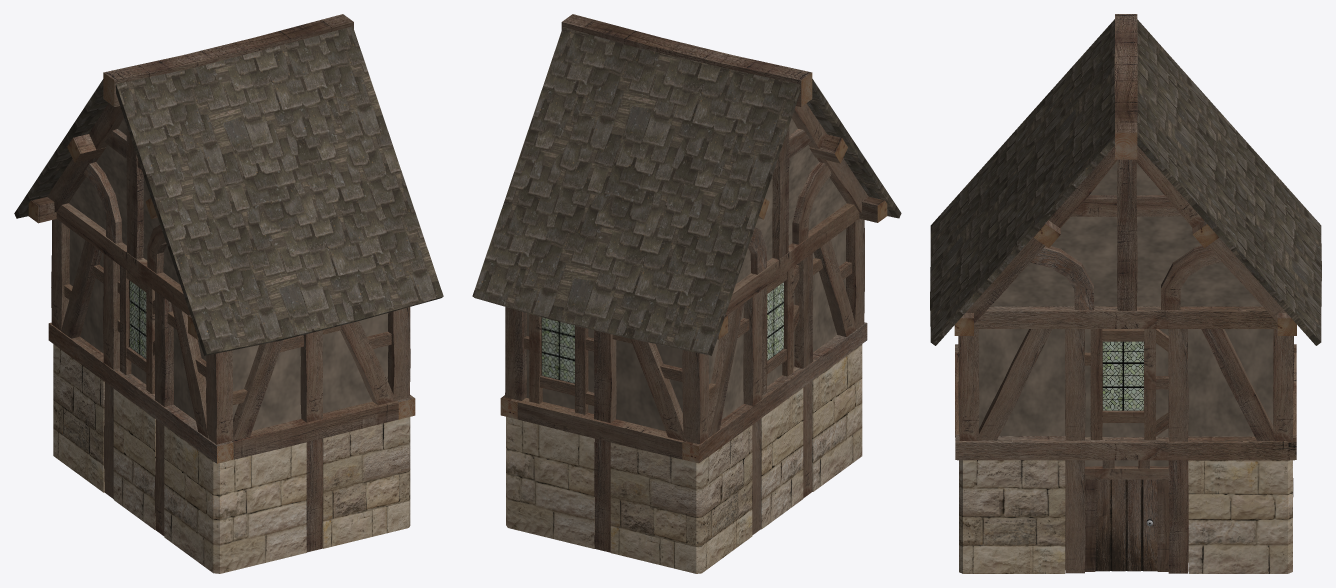
Rendered from house_3x2x1_0317e91a.glb.
3 views of the same model, side by side, from view 1: azimuth 30°, elevation 25°; view 2: azimuth 150°, elevation 25°; view 3: azimuth 270°, elevation 25° (orthographic).
Parts seen in each view (by area): view 1: house_3x2x1; view 2: house_3x2x1; view 3: house_3x2x1.
Part boxes in pixels (x1,y1,x2,y2): house_3x2x1: (14, 14, 443, 573); house_3x2x1: (472, 14, 901, 573); house_3x2x1: (930, 14, 1321, 573).
Size of the model in its own units: 668 by 1183 by 933.
Materials: 12 (10 with a texture image).
